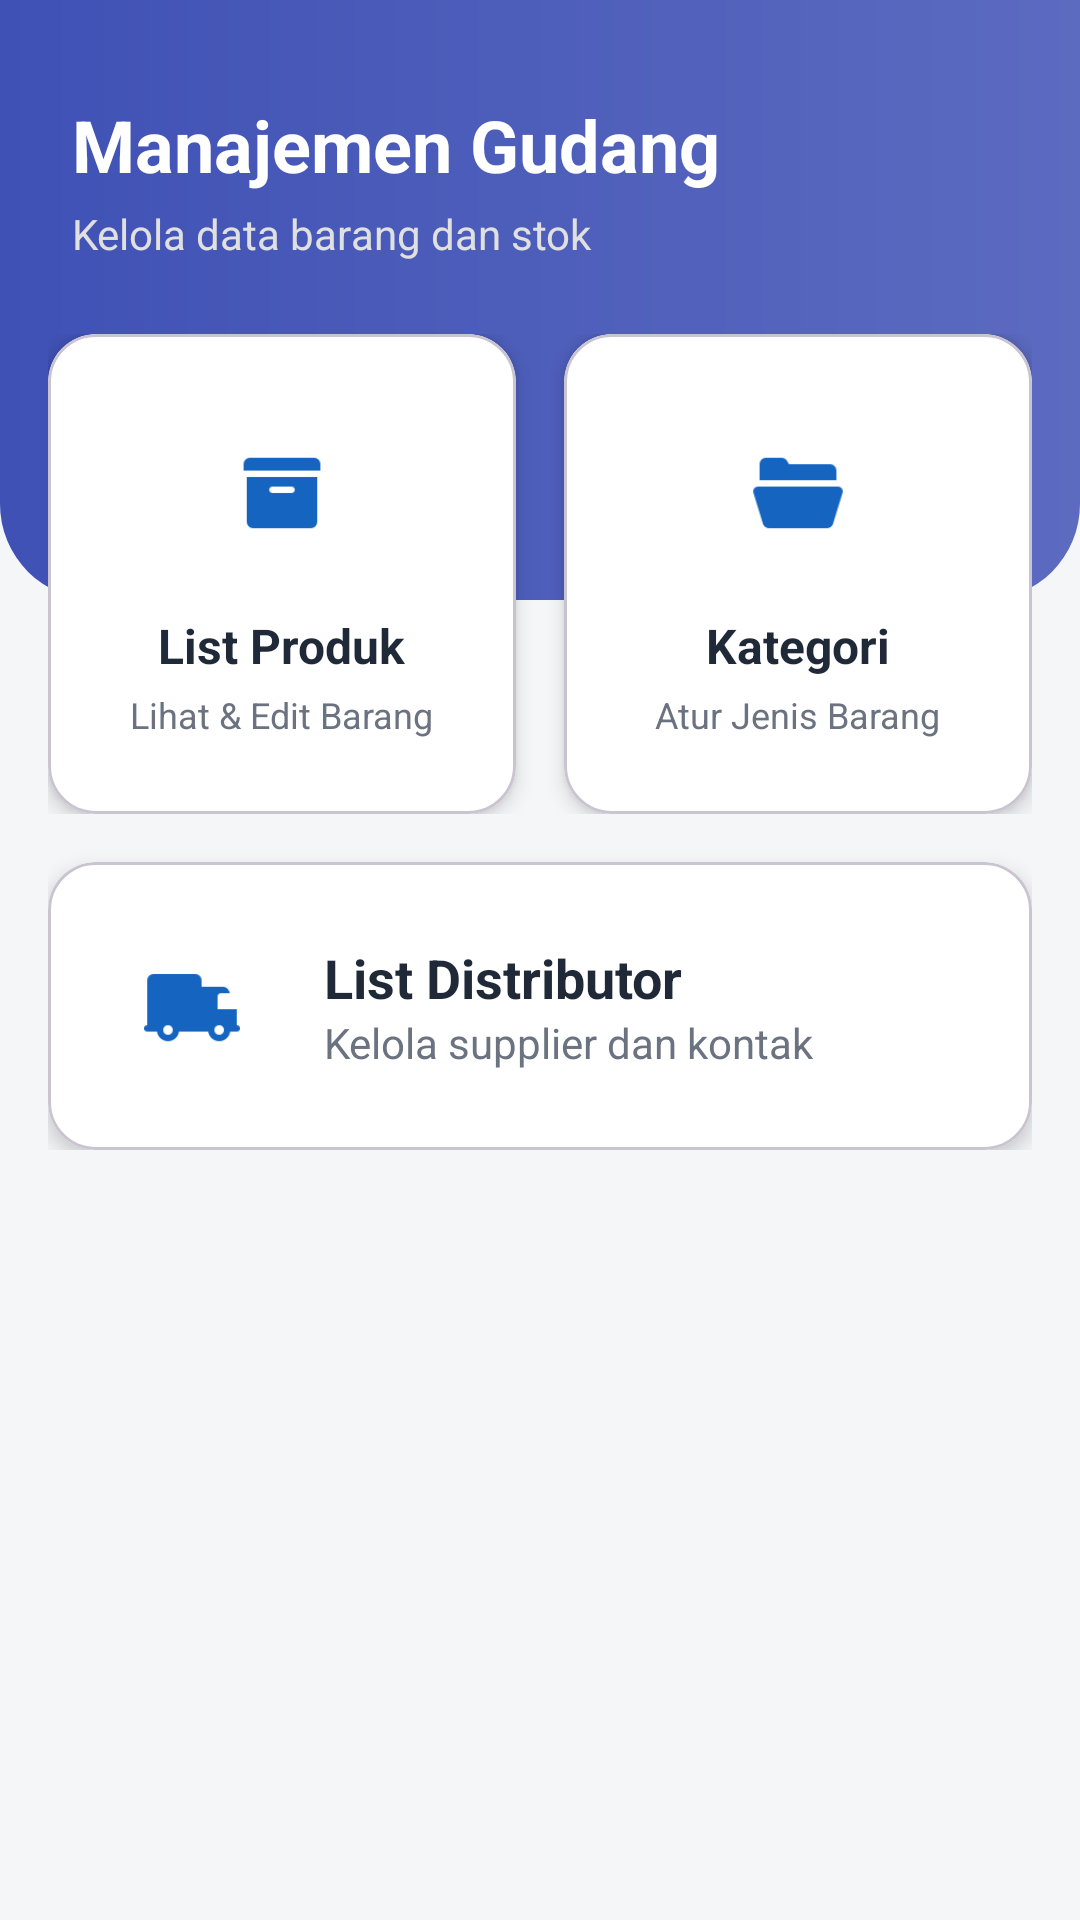

Named icons in this screenshot (1080×1920) and their centers, [x,y]:
product: [282,493]
